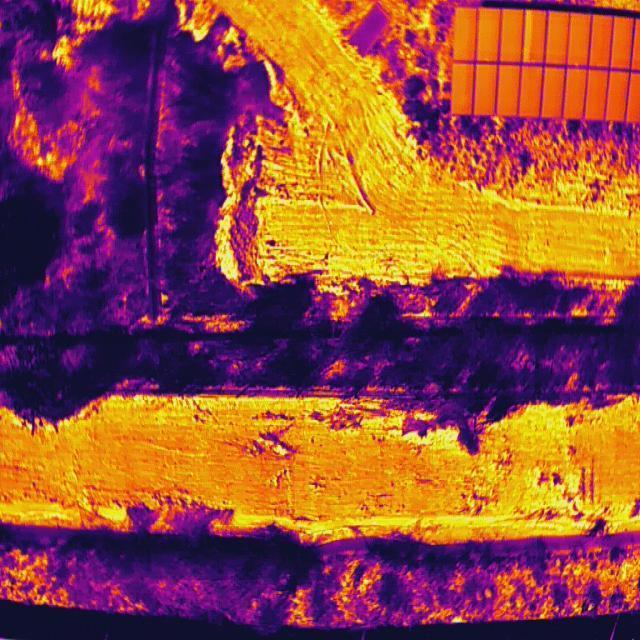diode: (526, 8, 536, 62)
